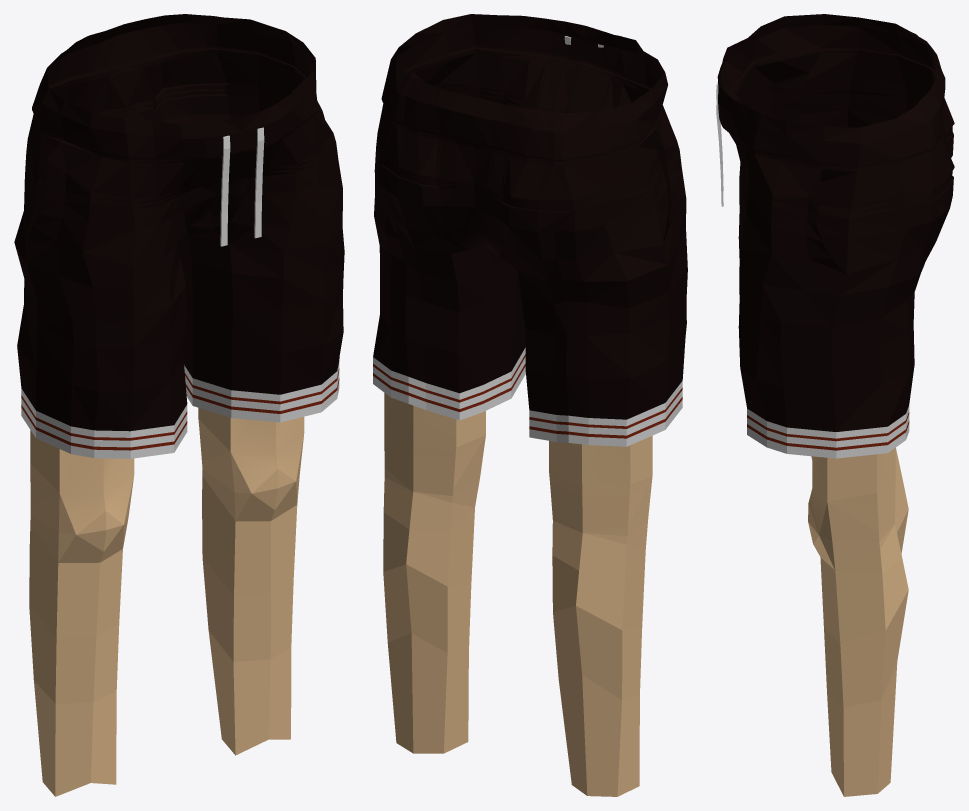
File: BlackShorts (1).glb
3 views of the same model, side by side, from view 1: azimuth 30°, elevation 25°; view 2: azimuth 150°, elevation 25°; view 3: azimuth 270°, elevation 25° (orthographic). The views are drawn at different scales.
Visible parts, largest first — view 1: Legs; view 2: Legs; view 3: Legs.
Part boxes in pixels (x1,y1,x2,y2): Legs: [14, 14, 344, 796]; Legs: [373, 14, 687, 796]; Legs: [716, 14, 954, 796].
Size of the model in its own units: 0.4685 by 1.08 by 0.3445.
